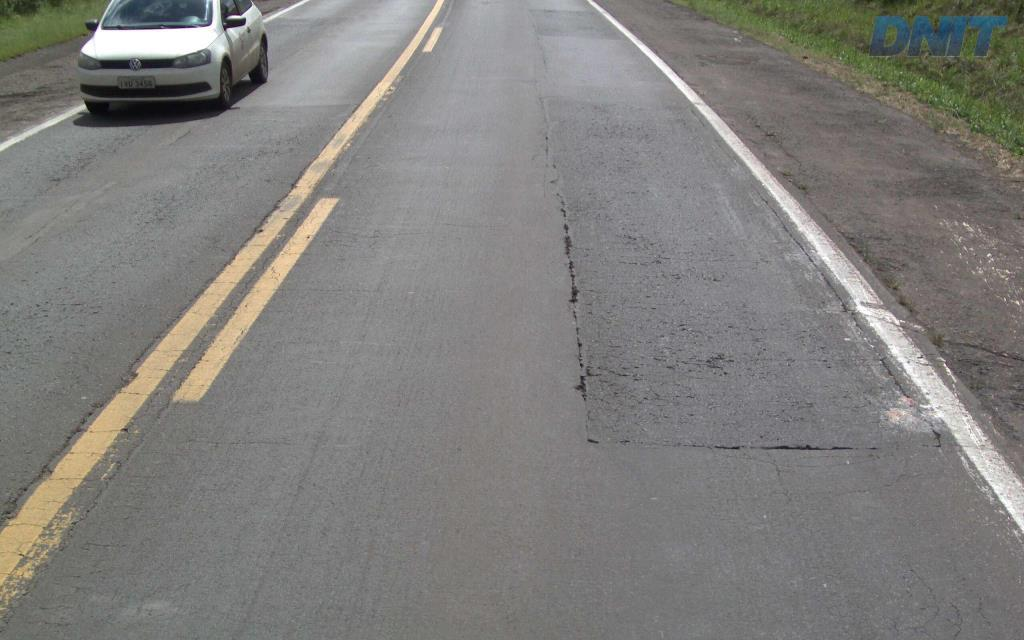crack: (573, 326, 667, 424), (665, 352, 734, 377), (563, 223, 580, 308), (759, 443, 853, 450)
